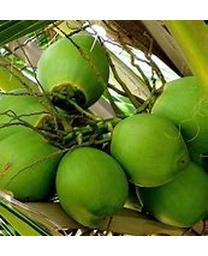coconut: (109, 112, 190, 189), (56, 145, 129, 227), (38, 33, 110, 112), (135, 156, 206, 228), (0, 123, 61, 205), (151, 75, 207, 162)
